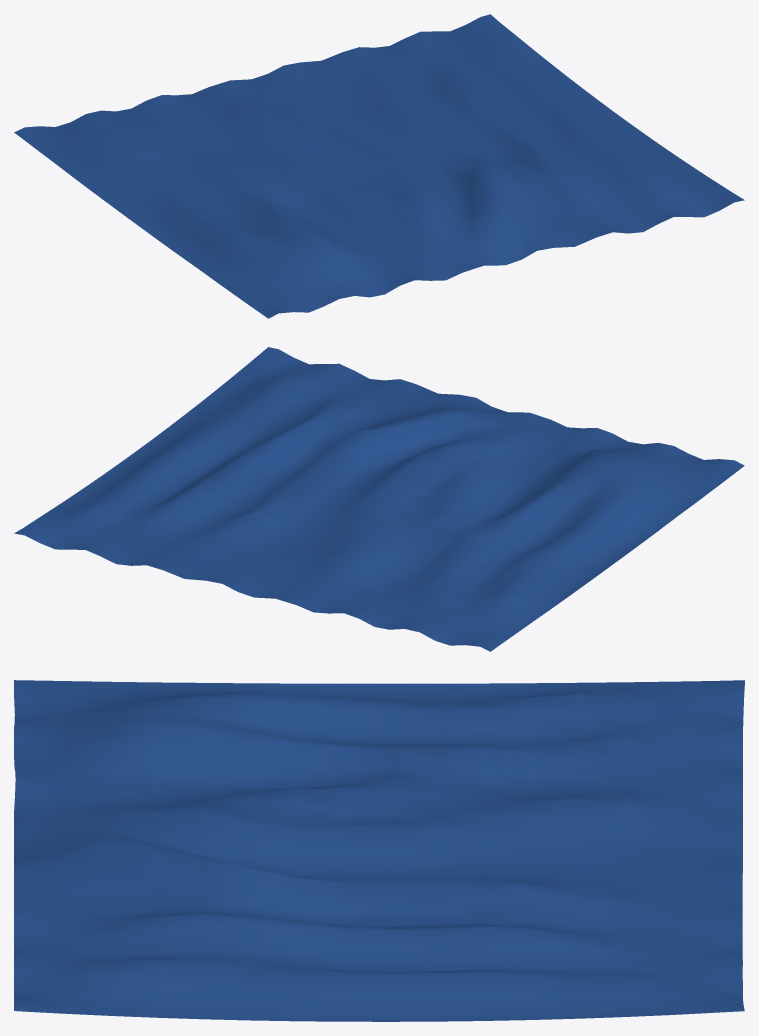
Rendered from rub.FBX.
The picture shows the model from 3 angles, top to bottom: view 1: azimuth 30°, elevation 25°; view 2: azimuth 150°, elevation 25°; view 3: azimuth 270°, elevation 25°; orthographic projection. The views are drawn at different scales.
Parts seen in each view (by area): view 1: rub_zbrush001; view 2: rub_zbrush001; view 3: rub_zbrush001.
Boxes of the visible parts, x1,y1,x2,y2 form: rub_zbrush001: (14, 14, 744, 318); rub_zbrush001: (14, 347, 744, 651); rub_zbrush001: (14, 680, 744, 1021).
Size of the model in its own units: 99.52 by 4.9 by 92.02.
